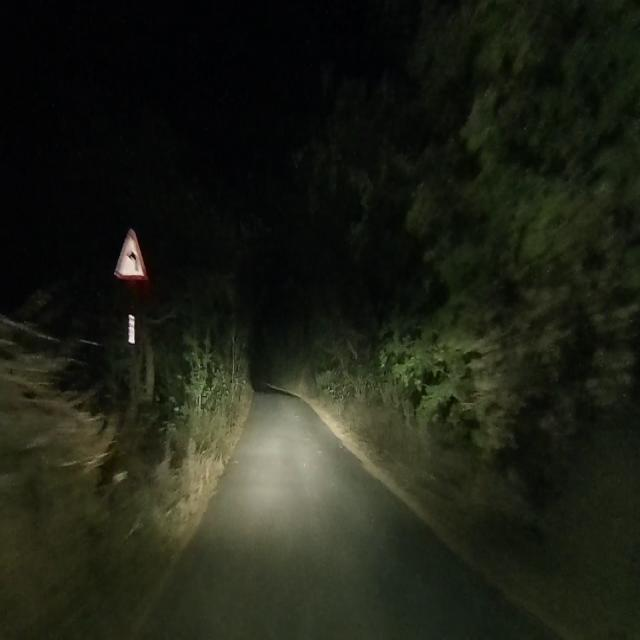left-hand-curve: (115, 222, 152, 282)
